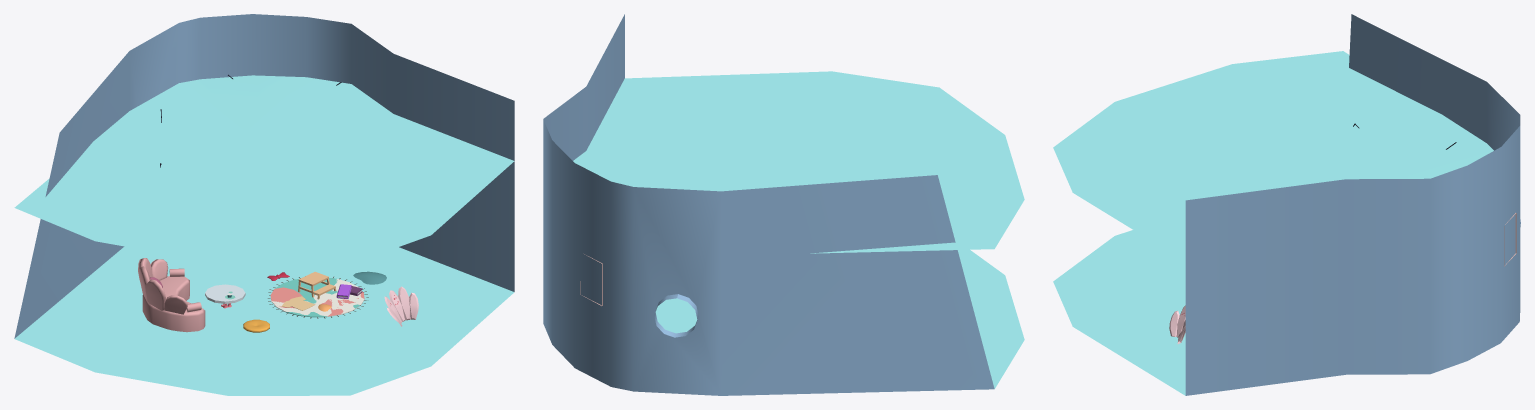
Rendered from DressUp_Girl_01.fbx.
3 views of the same model, side by side, from view 1: azimuth 30°, elevation 25°; view 2: azimuth 150°, elevation 25°; view 3: azimuth 270°, elevation 25° (orthographic). The views are drawn at different scales.
Parts seen in each view (by area): view 1: Walls2, Ceiling, Items; view 2: Walls2, Ceiling; view 3: Walls2, Ceiling, Items.
Boxes of the visible parts, <box> form: Walls2: <box>14,14,514,395</box>; Ceiling: <box>14,75,514,264</box>; Items: <box>138,74,418,332</box>; Walls2: <box>543,14,1024,395</box>; Ceiling: <box>573,71,1024,253</box>; Walls2: <box>1053,14,1520,395</box>; Ceiling: <box>1053,51,1493,261</box>; Items: <box>1169,123,1516,343</box>.
Size of the model in its own units: 1179 by 514 by 1105.
